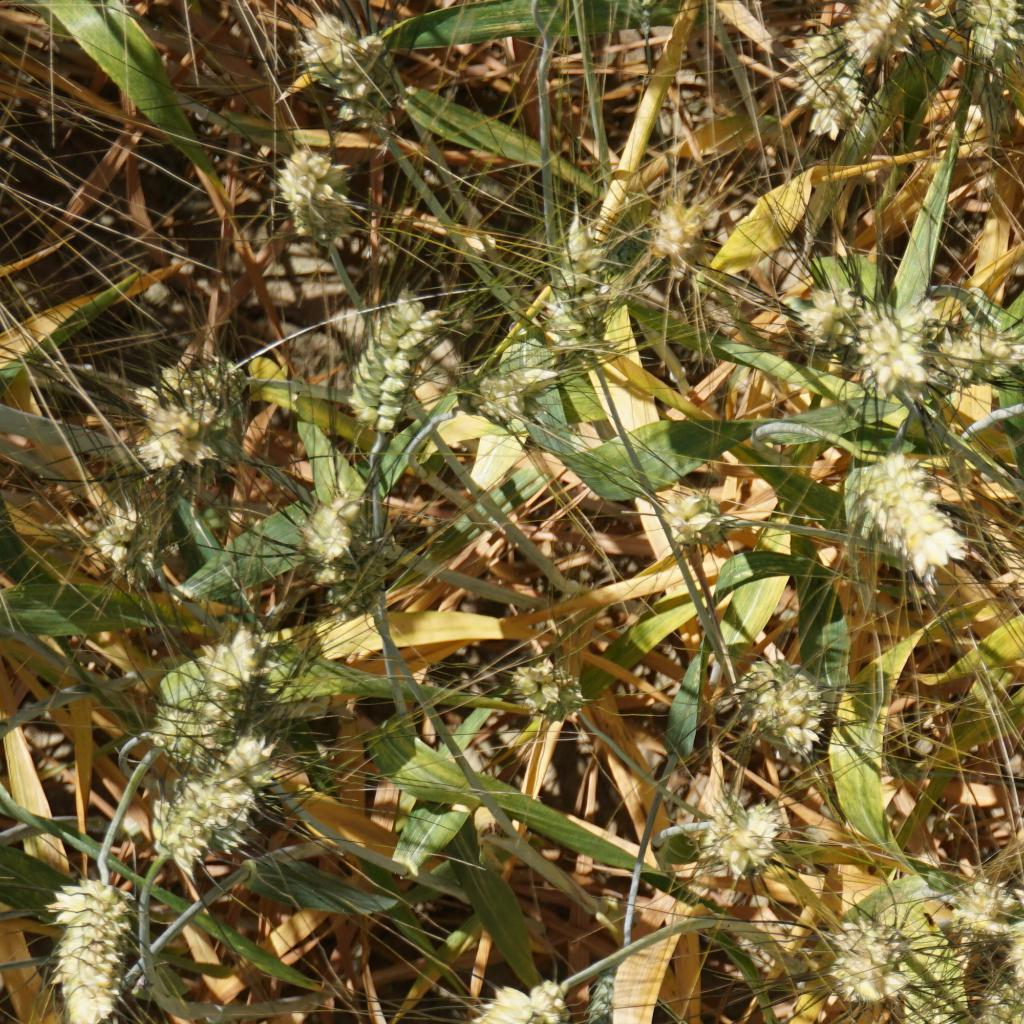0-0: (154, 731, 295, 866), (41, 873, 165, 1024), (335, 289, 455, 435), (284, 484, 402, 631), (124, 619, 252, 740), (128, 346, 250, 461), (854, 444, 947, 574), (497, 634, 608, 739), (712, 662, 831, 756), (773, 32, 868, 145), (276, 133, 365, 253), (538, 243, 625, 356), (685, 787, 792, 877), (282, 19, 408, 94), (88, 484, 172, 586), (420, 973, 585, 1024), (826, 913, 907, 1009), (936, 0, 1024, 88), (856, 301, 926, 403), (792, 273, 875, 356), (653, 486, 734, 566), (467, 346, 552, 420), (627, 184, 696, 261), (945, 866, 1013, 939), (857, 0, 932, 60), (568, 958, 629, 1024), (969, 969, 1020, 1024), (1005, 883, 1024, 1013)
